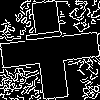I: (25, 25, 72, 45)
